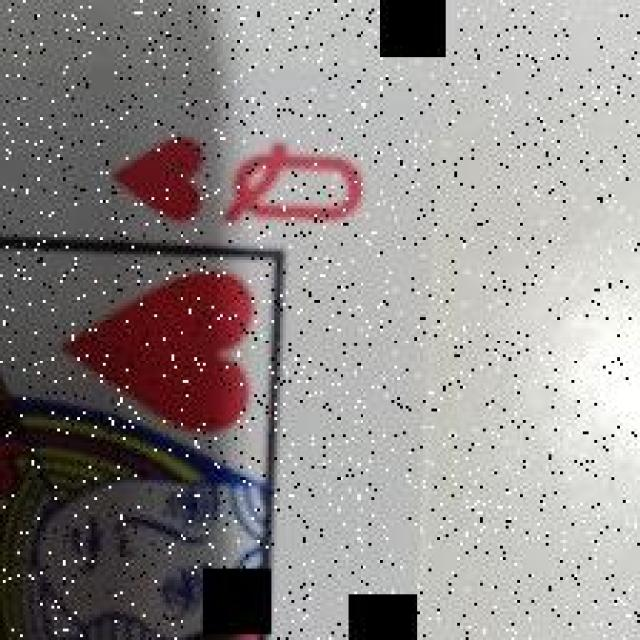Queen of hearts: (0, 131, 454, 639)
